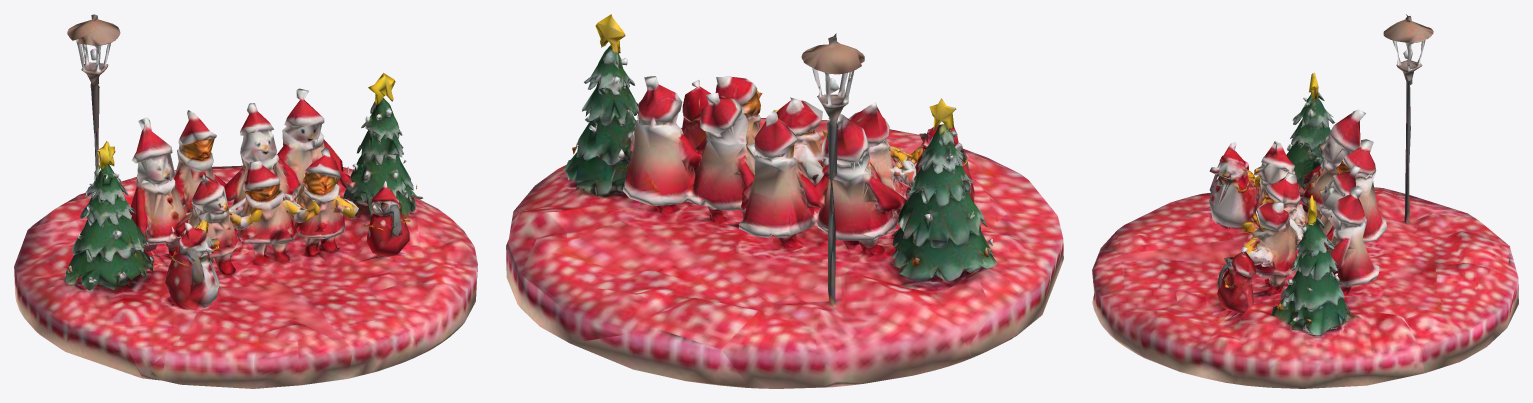
File: xm_santa.glb
The picture shows the model from 3 angles, left to right: view 1: azimuth 30°, elevation 25°; view 2: azimuth 150°, elevation 25°; view 3: azimuth 270°, elevation 25°; orthographic projection. The views are drawn at different scales.
Size of the model in its own units: 0.0792 by 0.0496 by 0.0791.
1 material, 1 textured.
